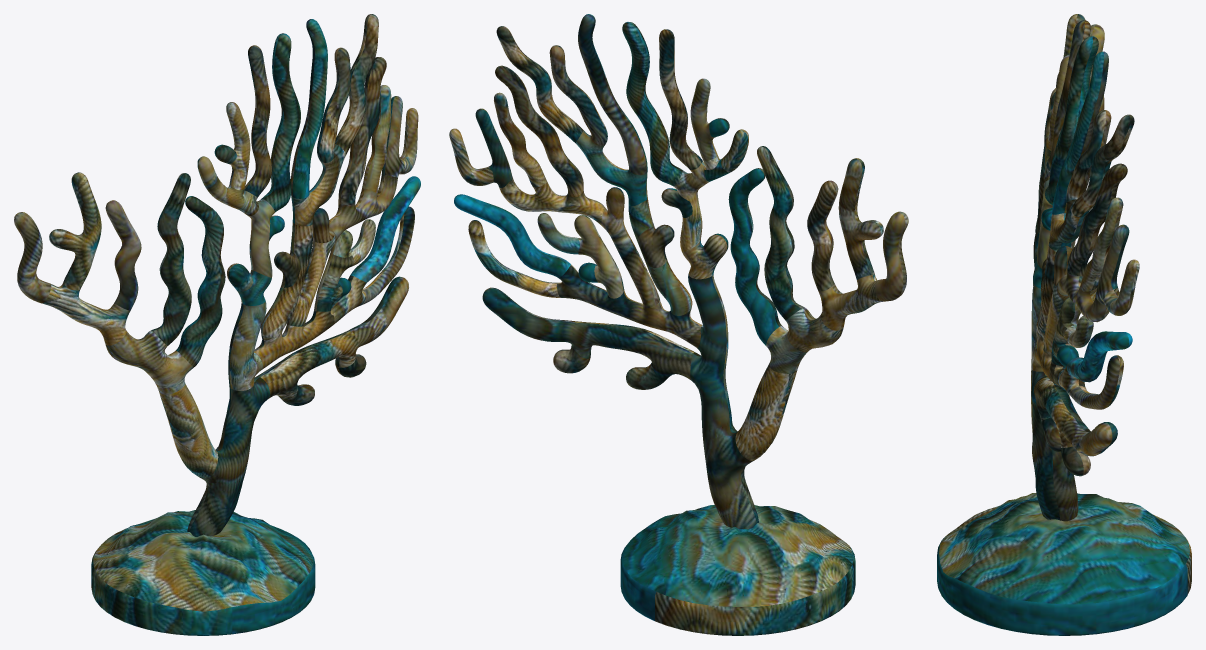
Rendered from softCoral.obj.
3 views of the same model, side by side, from view 1: azimuth 30°, elevation 25°; view 2: azimuth 150°, elevation 25°; view 3: azimuth 270°, elevation 25° (orthographic). The views are drawn at different scales.
Visible parts, largest first — view 1: softCoral; view 2: softCoral; view 3: softCoral.
Part boxes in pixels (box(x1,y1,x2,y2)): softCoral: box(14, 14, 420, 635); softCoral: box(449, 14, 908, 635); softCoral: box(937, 14, 1191, 635).
Bounding box in the file's own units: 14.94 × 17.95 × 6.91.
